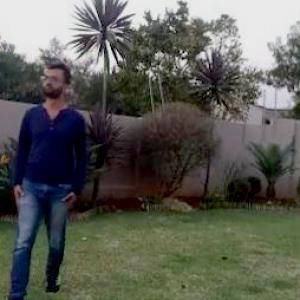follow: (0, 18, 96, 299)
